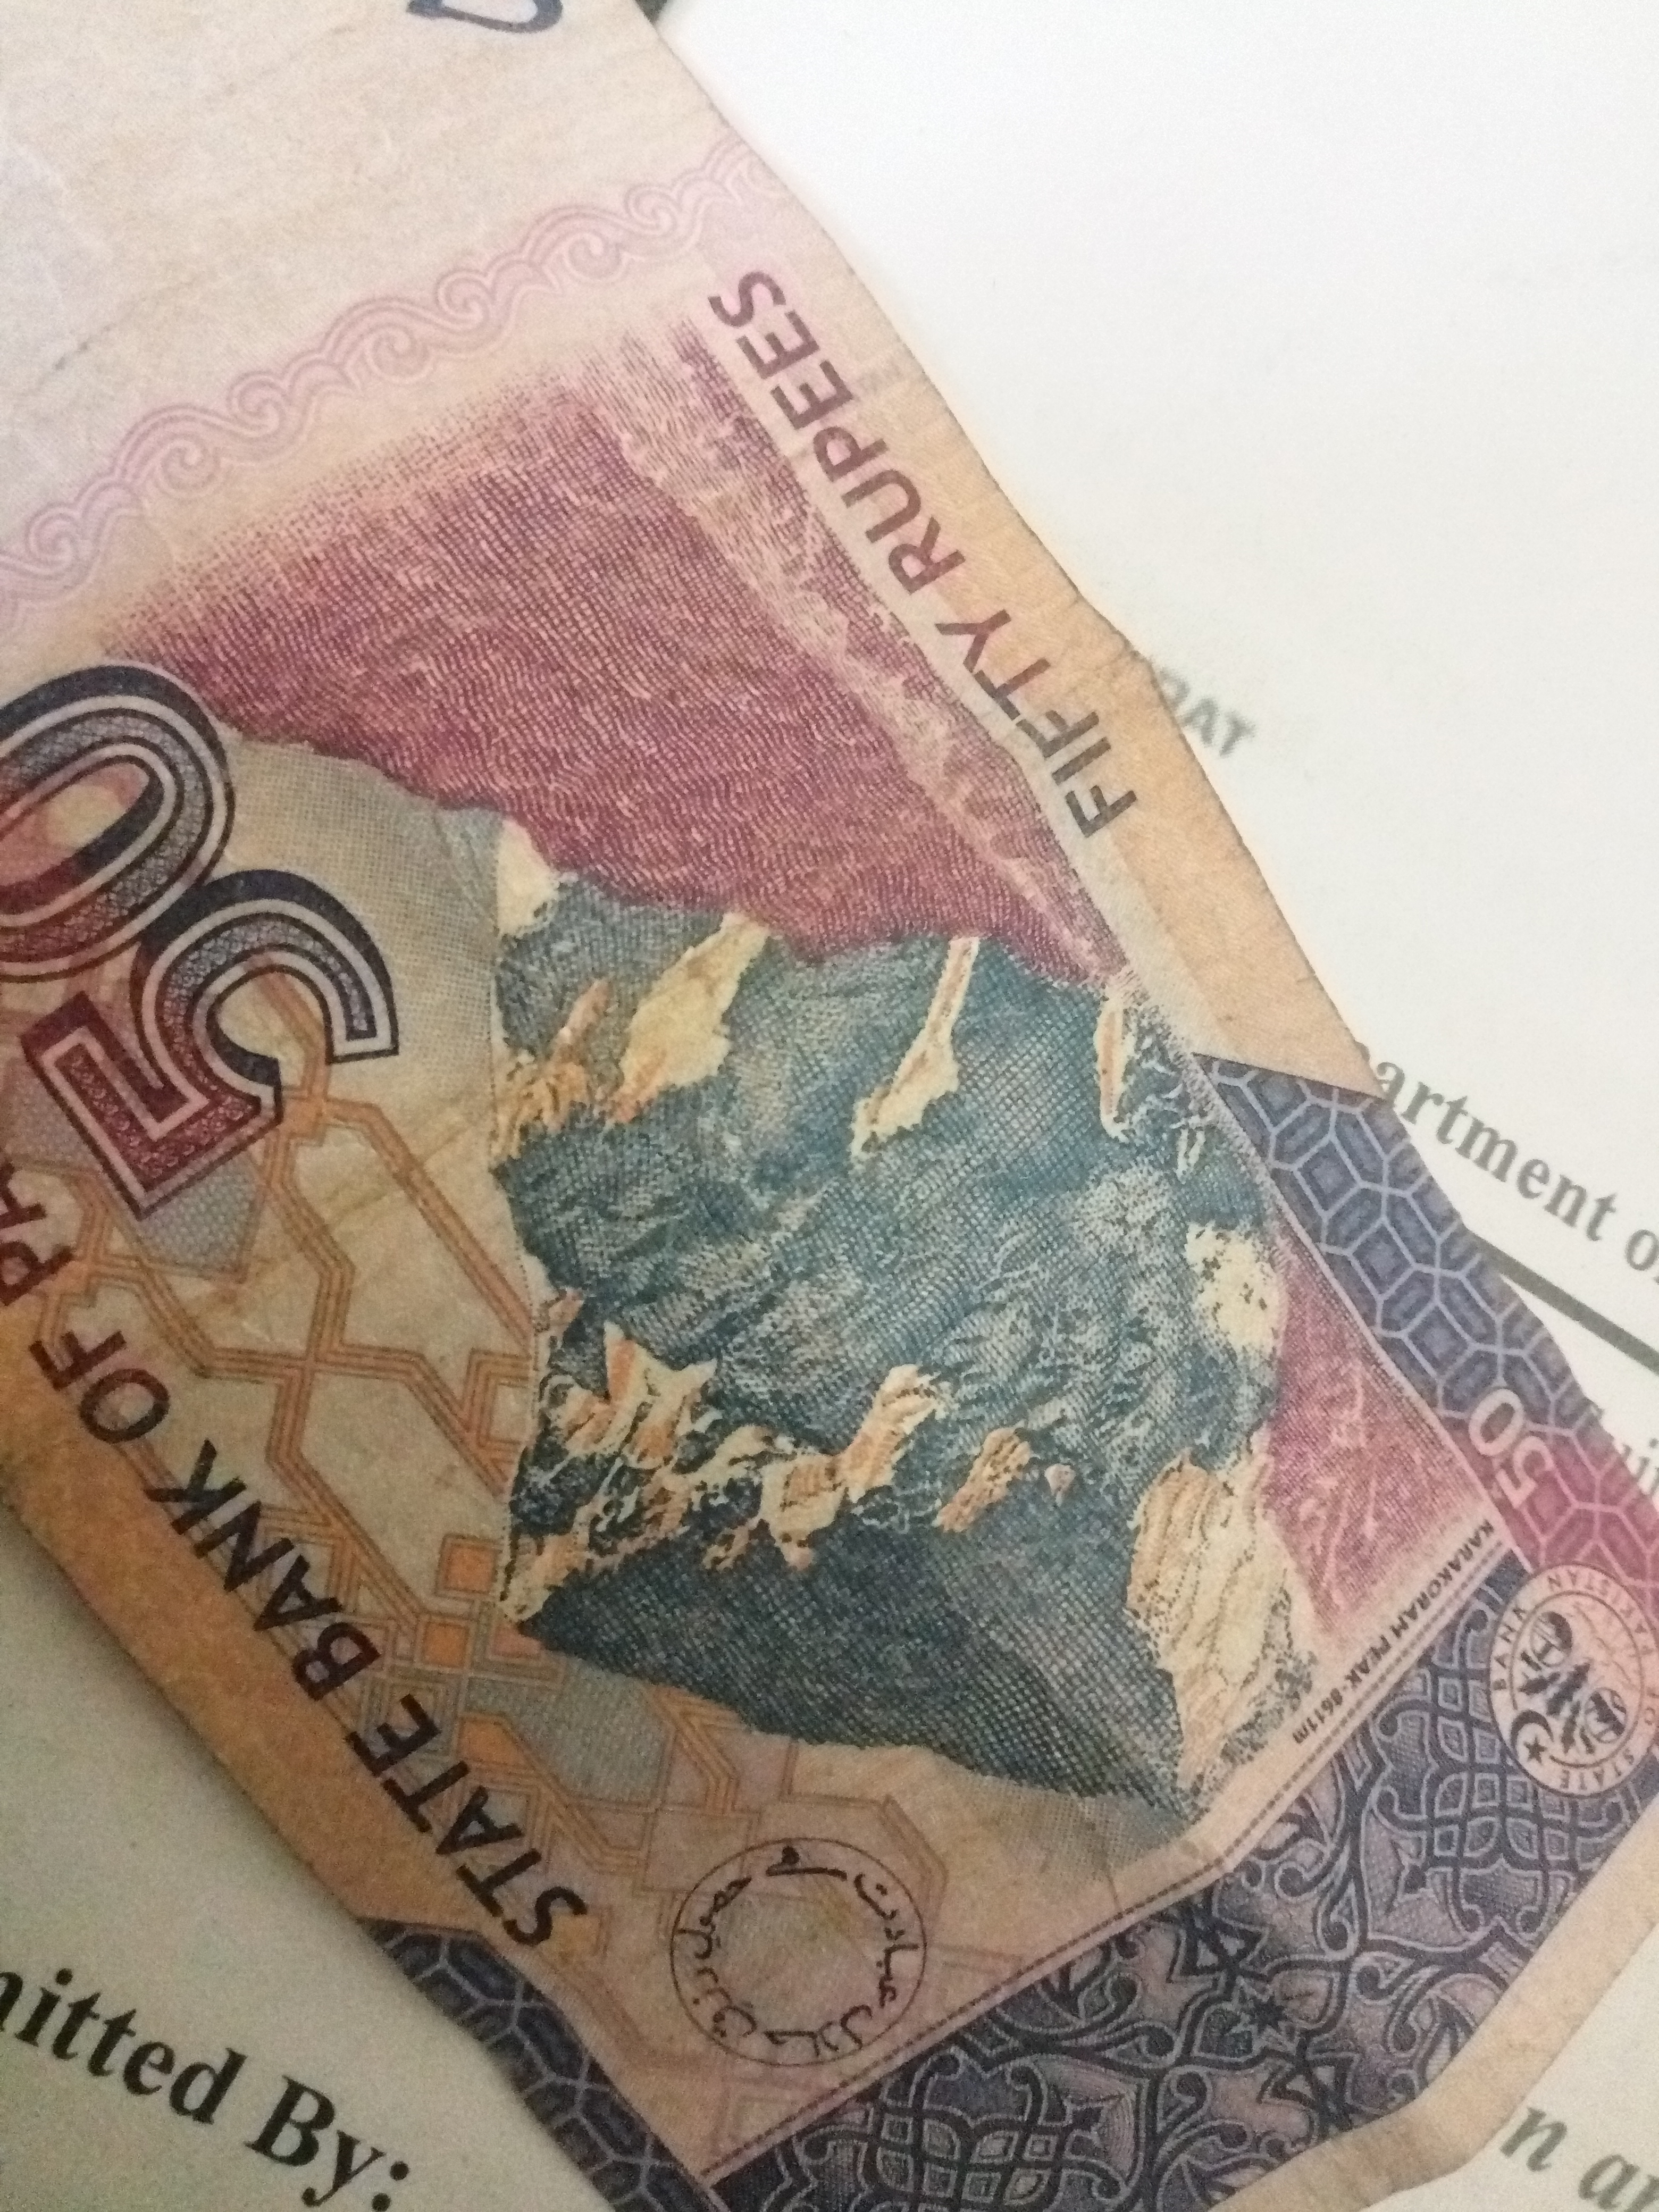50 rupee: (35, 28, 1635, 2156)
